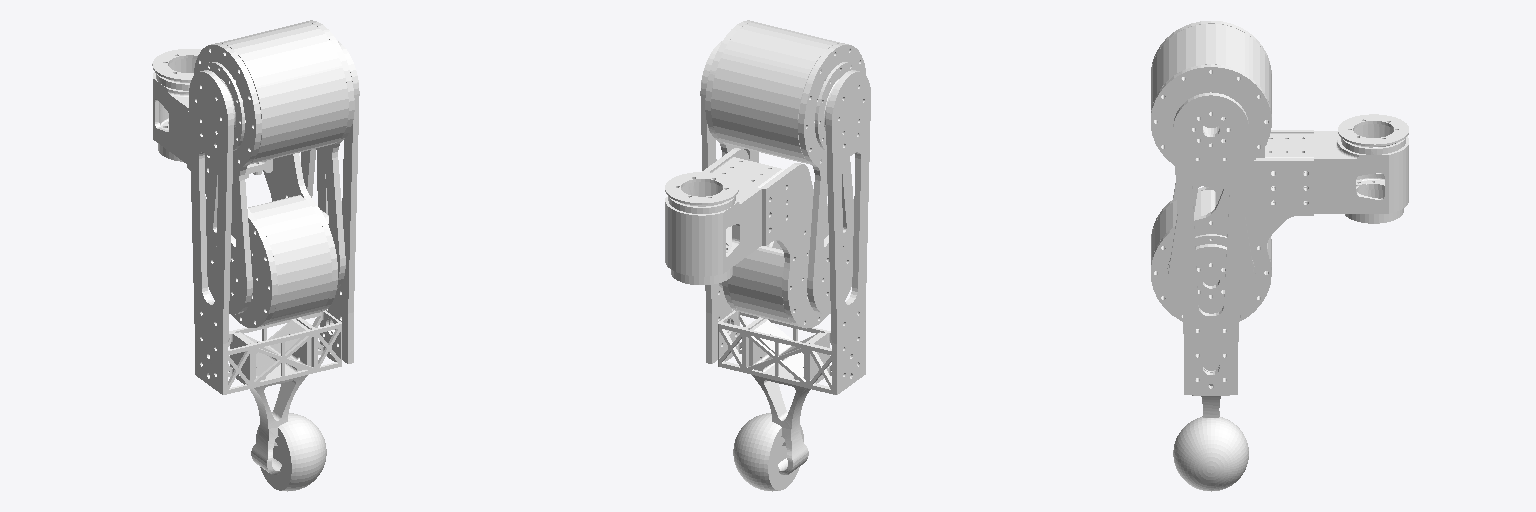
URDF robot description (single_leg):
<?xml version="1.0" encoding="utf-8"?>
<!-- This URDF was automatically created by SolidWorks to URDF Exporter! ZZLIN_2022.11.15 -->
<!-- =================================================================================== -->
<robot name="single_leg">
    <mujoco>
        <compiler meshdir="package://robot/urdf/elspider_mini/meshes" balanceinertia="true" discardvisual="false" />
    </mujoco>

    <link name="world" />

    <link name="RF_HIP">
        <inertial>
            <origin xyz="0 0 0" rpy="0 0 0" />
            <mass value="1.432" />
            <inertia ixx="0.008667273" ixy="0.000550519" ixz="-0.000437698"
                     iyy="0.003966417" iyz="0.003045718"
                     izz="0.006263477" />
        </inertial>
        <visual>
            <origin xyz="0 0 0" rpy="0 0 0" />
            <geometry>
                <mesh filename="package://robot/urdf/elspider_mini/meshes/RF_HIP.STL" />
            </geometry>
            <material name="">
                <color rgba="1 1 1 1" />
            </material>
        </visual>
        <collision>
            <origin xyz="0 0 0" rpy="0 0 0" />
            <geometry>
                <mesh filename="package://robot/urdf/elspider_mini/meshes/RF_HIP.STL" />
            </geometry>
        </collision>
    </link>

    <joint name="RF_HAA" type="revolute">
        <origin xyz="0 0 0" rpy="0 0 3.1416" />
        <parent link="world" />
        <child link="RF_HIP" />
        <axis xyz="0 0 1" />
        <limit lower="-0.94" upper="0.94" effort="33.5" velocity="21" />
    </joint>

    <link name="RF_THIGH">
        <inertial>
            <origin
                xyz="0.130350535114915 -2.31481500634345E-14 0.00536514725405646"
                rpy="0 0 0" />
            <mass value="1.088" />
            <inertia ixx="0.005757794" ixy="0" ixz="0.001017752"
                     iyy="0.006716892" iyz="0"
                     izz="0.002140865" />
        </inertial>
        <visual>
            <origin xyz="0 0 0" rpy="0 0 0" />
            <geometry>
                <mesh filename="package://robot/urdf/elspider_mini/meshes/RF_THIGH.STL" />
            </geometry>
            <material name="">
                <color rgba="1 1 1 1" />
            </material>
        </visual>
        <collision>
            <origin xyz="0 0 0" rpy="0 0 0" />
            <geometry>
                <mesh filename="package://robot/urdf/elspider_mini/meshes/RF_THIGH.STL" />
            </geometry>
        </collision>
    </link>

    <joint name="RF_HFE" type="revolute">
        <origin xyz="0 0.15 -0.086603" rpy="3.1416 -1.5708 0" />
        <parent link="RF_HIP" />
        <child link="RF_THIGH" />
        <axis xyz="0 0 -1" />
        <limit lower="-0.1" upper="3.5" effort="33.5" velocity="21" />
    </joint>

    <link name="RF_SHANK">
        <inertial>
            <origin
                xyz="8.3661968509452E-05 -0.149655490940651 0.00235938386243889"
                rpy="0 0 0" />
            <mass value="0.632" />
            <inertia ixx="0.009725734" ixy="0" ixz="-0.000516644"
                     iyy="0.011177627" iyz="0.000006204"
                     izz="0.001750349" />
        </inertial>
        <visual>
            <origin xyz="0 0 0" rpy="0 0 0" />
            <geometry>
                <mesh filename="package://robot/urdf/elspider_mini/meshes/RF_SHANK.STL" />
            </geometry>
            <material name="">
                <color rgba="1 1 1 1" />
            </material>
        </visual>
        <collision>
            <origin xyz="0 0 0" rpy="0 0 0" />
            <geometry>
                <mesh filename="package://robot/urdf/elspider_mini/meshes/RF_SHANK.STL" />
            </geometry>
        </collision>
    </link>

    <joint name="RF_KFE" type="revolute">
        <origin xyz="0.162 0 0" rpy="3.1416 0 1.5708" />
        <parent link="RF_THIGH" />
        <child link="RF_SHANK" />
        <axis xyz="0 0 -1" />
        <limit lower="-0.436" upper="4.25" effort="33.5" velocity="21" />
    </joint>

    <link name="RF_FOOT">
        <inertial>
            <origin
                xyz="5.55111512312578E-17 0 -5.55111512312578E-17"
                rpy="0 0 0" />
            <mass value="0.013" />
            <inertia ixx="2.423E-06" ixy="0" ixz="0"
                     iyy="3.073E-06" iyz="0"
                     izz="2.423E-06" />
        </inertial>
        <visual>
            <origin xyz="0 0 0" rpy="0 0 0" />
            <geometry>
                <mesh filename="package://robot/urdf/elspider_mini/meshes/RF_FOOT.STL" />
            </geometry>
            <material name="">
                <color rgba="1 1 1 1" />
            </material>
        </visual>
        <collision>
            <origin xyz="0 0 0" rpy="0 0 0" />
            <geometry>
                <mesh filename="package://robot/urdf/elspider_mini/meshes/RF_FOOT.STL" />
            </geometry>
        </collision>
    </link>

    <joint name="RF_FIX" type="fixed" dont_collapse="true">
        <origin xyz="0 -0.35499 0" rpy="3.1416 0 3.1416" />
        <parent link="RF_SHANK" />
        <child link="RF_FOOT" />
        <axis xyz="0 0 0" />
    </joint>
</robot>

--- Render facts (derived) ---
3 views of the same robot in one strip: view 1: azimuth 30°, elevation 25°; view 2: azimuth 150°, elevation 25°; view 3: azimuth 270°, elevation 25° (orthographic).
Model single_leg with 5 links and 4 joints (3 revolute, 1 fixed), rooted at world, posed all joints at 0.
Links seen in each view (by area): view 1: RF_SHANK, RF_THIGH, RF_HIP, RF_FOOT; view 2: RF_SHANK, RF_HIP, RF_THIGH, RF_FOOT; view 3: RF_HIP, RF_SHANK, RF_THIGH, RF_FOOT.
Boxes of the visible links, x1=… form: RF_SHANK: x1=189, y1=41, x2=359, y2=474; RF_THIGH: x1=194, y1=20, x2=354, y2=314; RF_HIP: x1=152, y1=49, x2=337, y2=327; RF_FOOT: x1=256, y1=413, x2=326, y2=491; RF_SHANK: x1=700, y1=41, x2=870, y2=474; RF_HIP: x1=665, y1=148, x2=828, y2=328; RF_THIGH: x1=705, y1=20, x2=865, y2=314; RF_FOOT: x1=733, y1=413, x2=803, y2=491; RF_HIP: x1=1151, y1=114, x2=1408, y2=321; RF_SHANK: x1=1173, y1=93, x2=1248, y2=417; RF_THIGH: x1=1151, y1=21, x2=1271, y2=313; RF_FOOT: x1=1173, y1=417, x2=1248, y2=491.
Size in the robot's own frame: 0.135 by 0.2389 by 0.4459 metres.
4 mesh visuals loaded from 4 distinct referenced files (4 binary STL).
